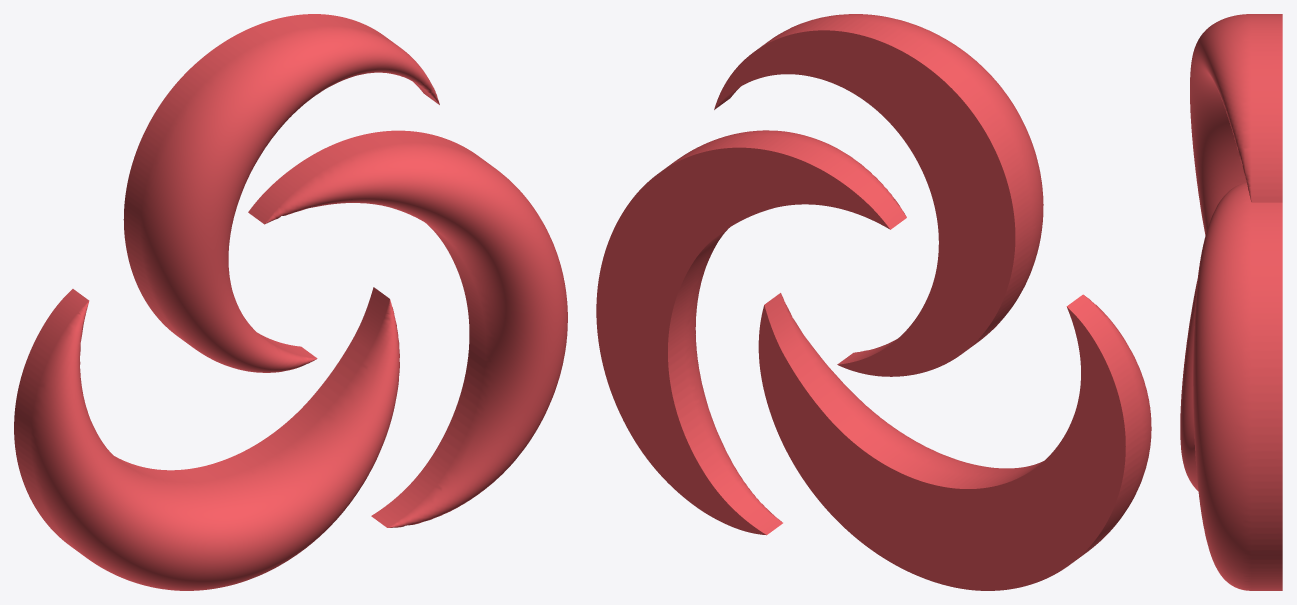
The picture shows the model from 3 angles, left to right: view 1: azimuth 30°, elevation 25°; view 2: azimuth 150°, elevation 25°; view 3: azimuth 270°, elevation 25°; orthographic projection. The views are drawn at different scales.
Size of the model in its own units: 0.3691 by 0.3528 by 0.0654.
